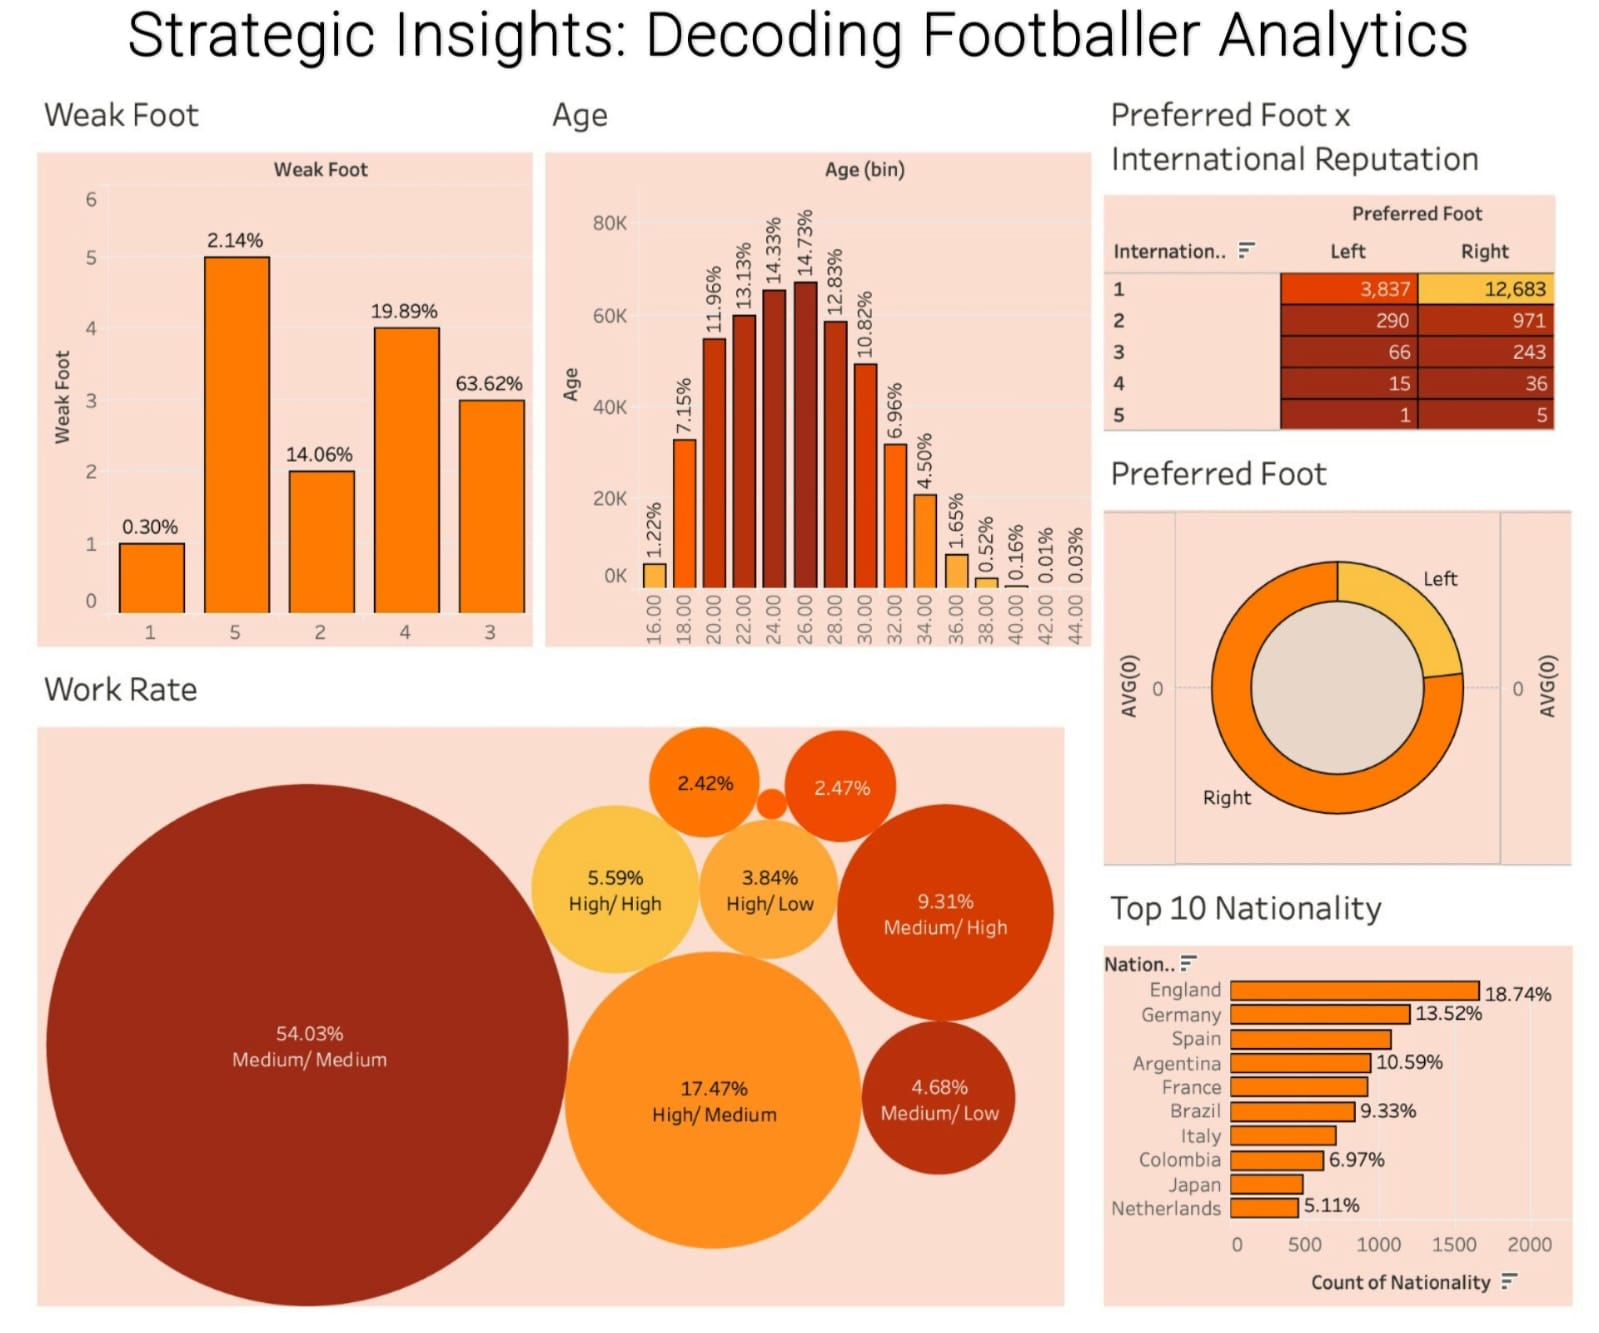

This screenshot's page, from the dashboard's own definition file:
{"tool":"tableau","page":{"name":"Dashboard 2","canvas":[1000,800],"ordinal":1},"visuals":[{"type":"worksheet","title":"Weak Foot","mark":"Bar","rows":["Weak Foot"],"cols":["Weak Foot"],"box":[8,8,310.1,365]},{"type":"worksheet","title":"Age","mark":"Bar","rows":["Age"],"cols":["Age (bin)"],"box":[318.1,8,333.9,365]},{"type":"worksheet","title":"Preferred Foot x Int.. Reputation","mark":"Square","rows":["International Reputation"],"cols":["Preferred Foot"],"box":[652,8,340,228]},{"type":"worksheet","title":"Preferred Foot","mark":"Pie","rows":["Calculation_4018196093437947909","Calculation_4018196093437833217"],"box":[652,236,340,276]},{"type":"worksheet","title":"Work Rate","mark":"Circle","box":[8,373,644,419]},{"type":"worksheet","title":"Top 10 Nationality","mark":"Bar","rows":["Nationality"],"cols":["Nationality"],"box":[652,512,340,280]}]}

Visuals, with their boxes on the page's 1000x800 design canvas (x1, y1, x2, y2). These are canvas units, not pixel positions in the 1599x1333 screenshot, which may show the page scaled, cropped or inside an application window:
"Weak Foot" worksheet (Bar marks): l=8, t=8, r=318, b=373
"Age" worksheet (Bar marks): l=318, t=8, r=652, b=373
"Preferred Foot x Int.. Reputation" worksheet (Square marks): l=652, t=8, r=992, b=236
"Preferred Foot" worksheet (Pie marks): l=652, t=236, r=992, b=512
"Work Rate" worksheet (Circle marks): l=8, t=373, r=652, b=792
"Top 10 Nationality" worksheet (Bar marks): l=652, t=512, r=992, b=792
